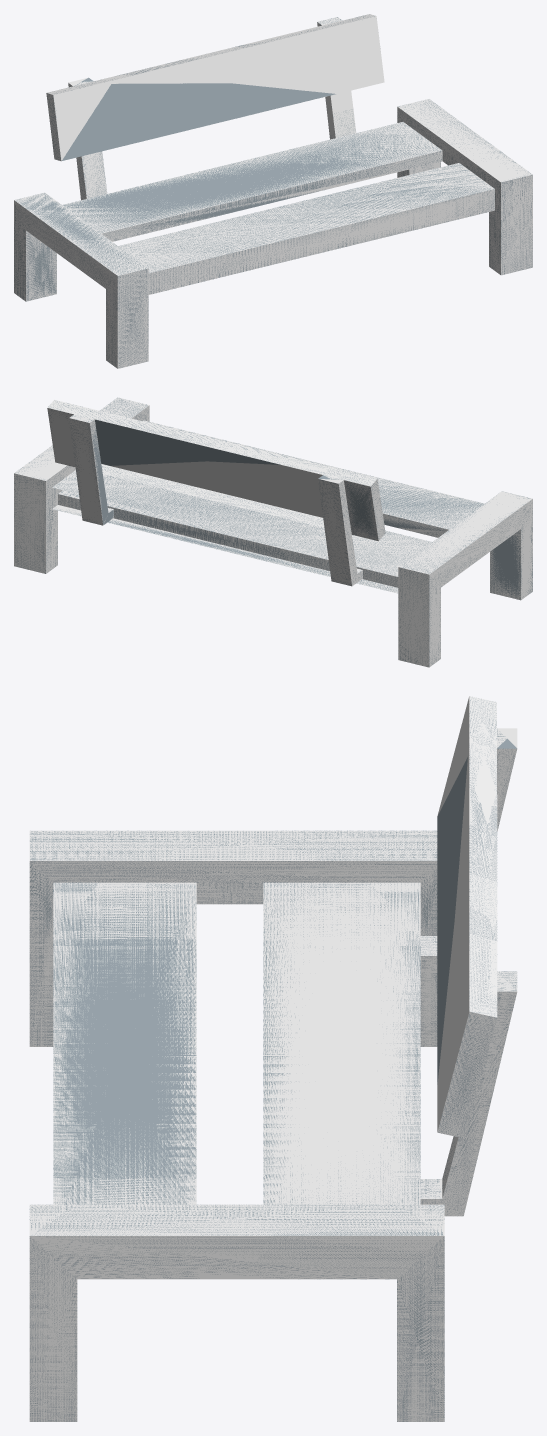
File: park bench.dae
The picture shows the model from 3 angles, top to bottom: view 1: azimuth 30°, elevation 25°; view 2: azimuth 150°, elevation 25°; view 3: azimuth 270°, elevation 25°; orthographic projection. The views are drawn at different scales.
Parts seen in each view (by area): view 1: instance_0 (×2); view 2: instance_0 (×2); view 3: instance_0 (×2).
Boxes of the visible parts, x1,y1,x2,y2 form: instance_0 (×2): [14, 14, 532, 368]; instance_0 (×2): [14, 397, 532, 667]; instance_0 (×2): [29, 696, 517, 1421].
Bounding box in the file's own units: 79.13 × 40.26 × 33.23.
